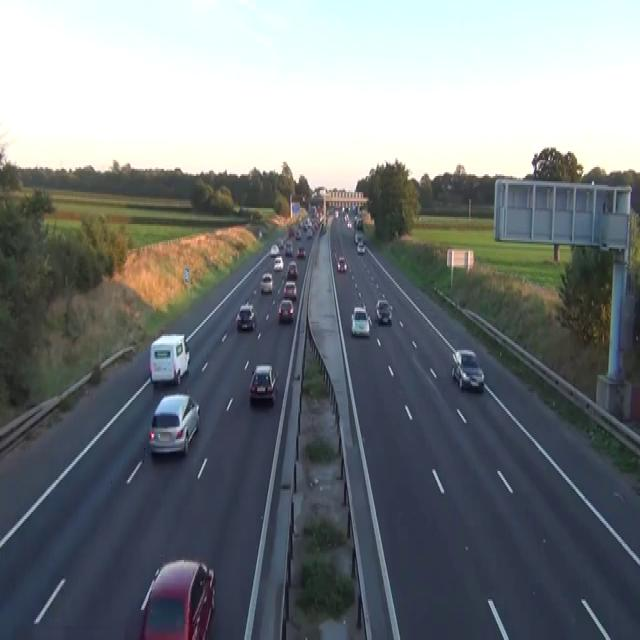Car: (139, 558, 215, 638), (148, 393, 200, 455), (451, 349, 484, 391), (249, 362, 278, 403), (350, 306, 371, 336), (235, 302, 256, 331), (374, 298, 392, 324), (278, 298, 294, 322), (283, 279, 297, 299), (260, 272, 272, 293), (286, 261, 298, 279), (337, 256, 347, 272), (284, 240, 293, 256), (273, 256, 283, 270), (354, 231, 364, 244), (269, 244, 279, 256), (296, 245, 305, 258), (276, 236, 284, 249), (357, 240, 365, 252), (355, 217, 362, 229), (306, 228, 312, 238), (288, 226, 294, 236), (334, 208, 339, 219), (354, 233, 359, 243), (295, 230, 301, 238), (321, 224, 326, 233), (258, 228, 262, 238), (301, 194, 306, 202), (346, 220, 351, 228)
Truck: (149, 332, 190, 384)
